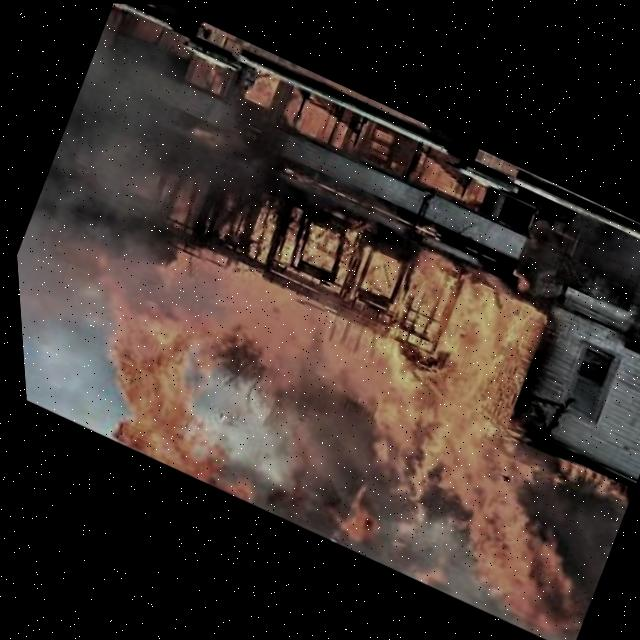Fire: (40, 126, 640, 640)
Smoke: (1, 10, 274, 415)
